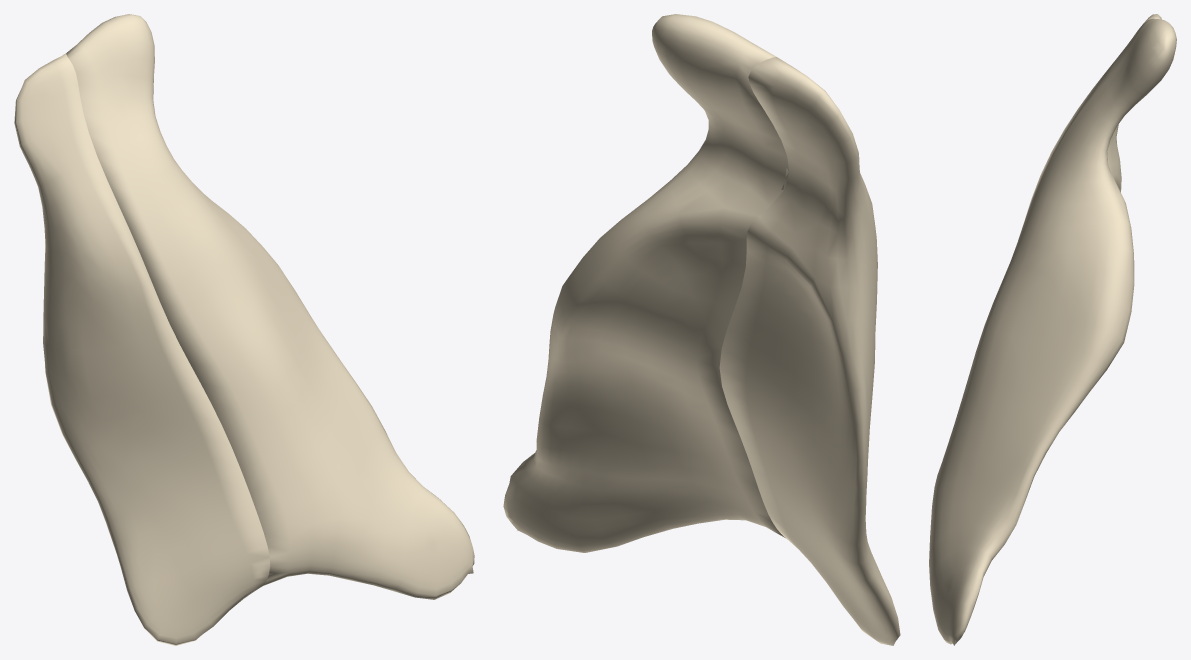
The model's file is VH_F_Thymus.glb.
3 renders of one model, left to right at view 1: azimuth 30°, elevation 25°; view 2: azimuth 150°, elevation 25°; view 3: azimuth 270°, elevation 25°, orthographic. The views are drawn at different scales.
Visible parts, largest first — view 1: VH_F_thymus_lobe_L, VH_F_thymus_lobe_R; view 2: VH_F_thymus_lobe_L, VH_F_thymus_lobe_R; view 3: VH_F_thymus_lobe_L, VH_F_thymus_lobe_R.
Part boxes in pixels (x1,y1,x2,y2): VH_F_thymus_lobe_L: (66,14,474,599); VH_F_thymus_lobe_R: (14,53,270,645); VH_F_thymus_lobe_L: (503,14,788,552); VH_F_thymus_lobe_R: (719,57,900,645); VH_F_thymus_lobe_L: (929,18,1176,645); VH_F_thymus_lobe_R: (1107,14,1161,192).
Size of the model in its own units: 0.086 by 0.1236 by 0.0538.
